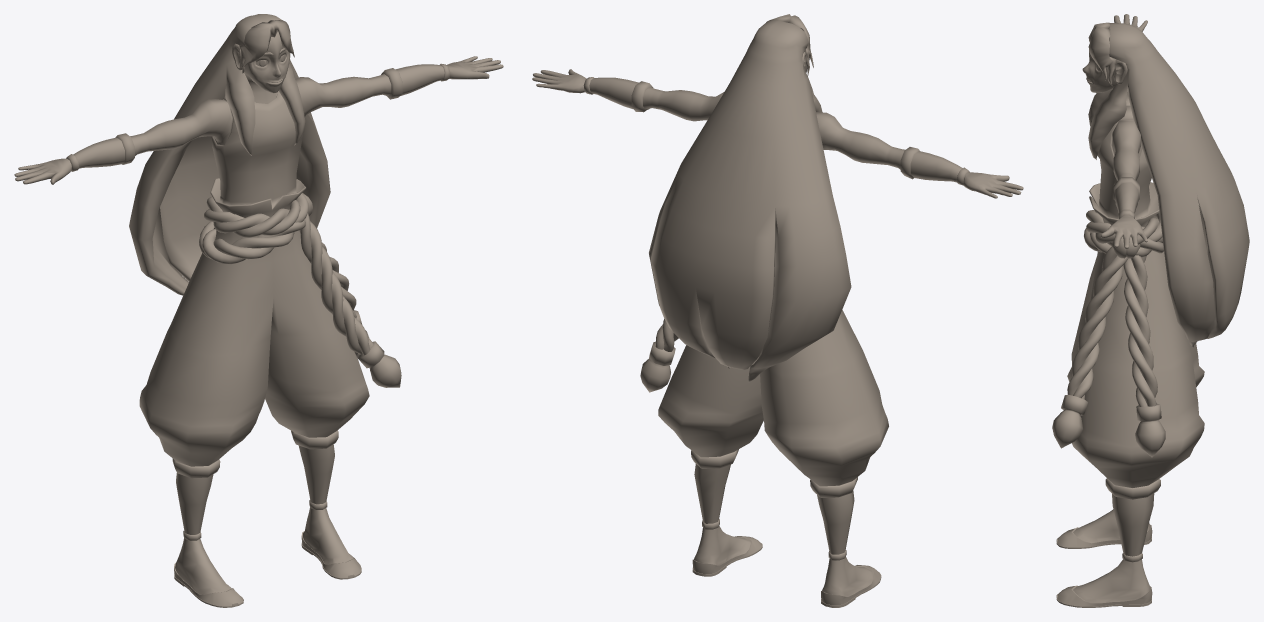
File: CedricPrueba.fbx
3 views of the same model, side by side, from view 1: azimuth 30°, elevation 25°; view 2: azimuth 150°, elevation 25°; view 3: azimuth 270°, elevation 25° (orthographic). The views are drawn at different scales.
Parts seen in each view (by area): view 1: Personaje.001; view 2: Personaje.001; view 3: Personaje.001.
Boxes of the visible parts, x1,y1,x2,y2 form: Personaje.001: (14, 14, 503, 607); Personaje.001: (532, 14, 1023, 607); Personaje.001: (1052, 14, 1249, 607).
Bounding box in the file's own units: 3.34 × 3.64 × 1.2.
